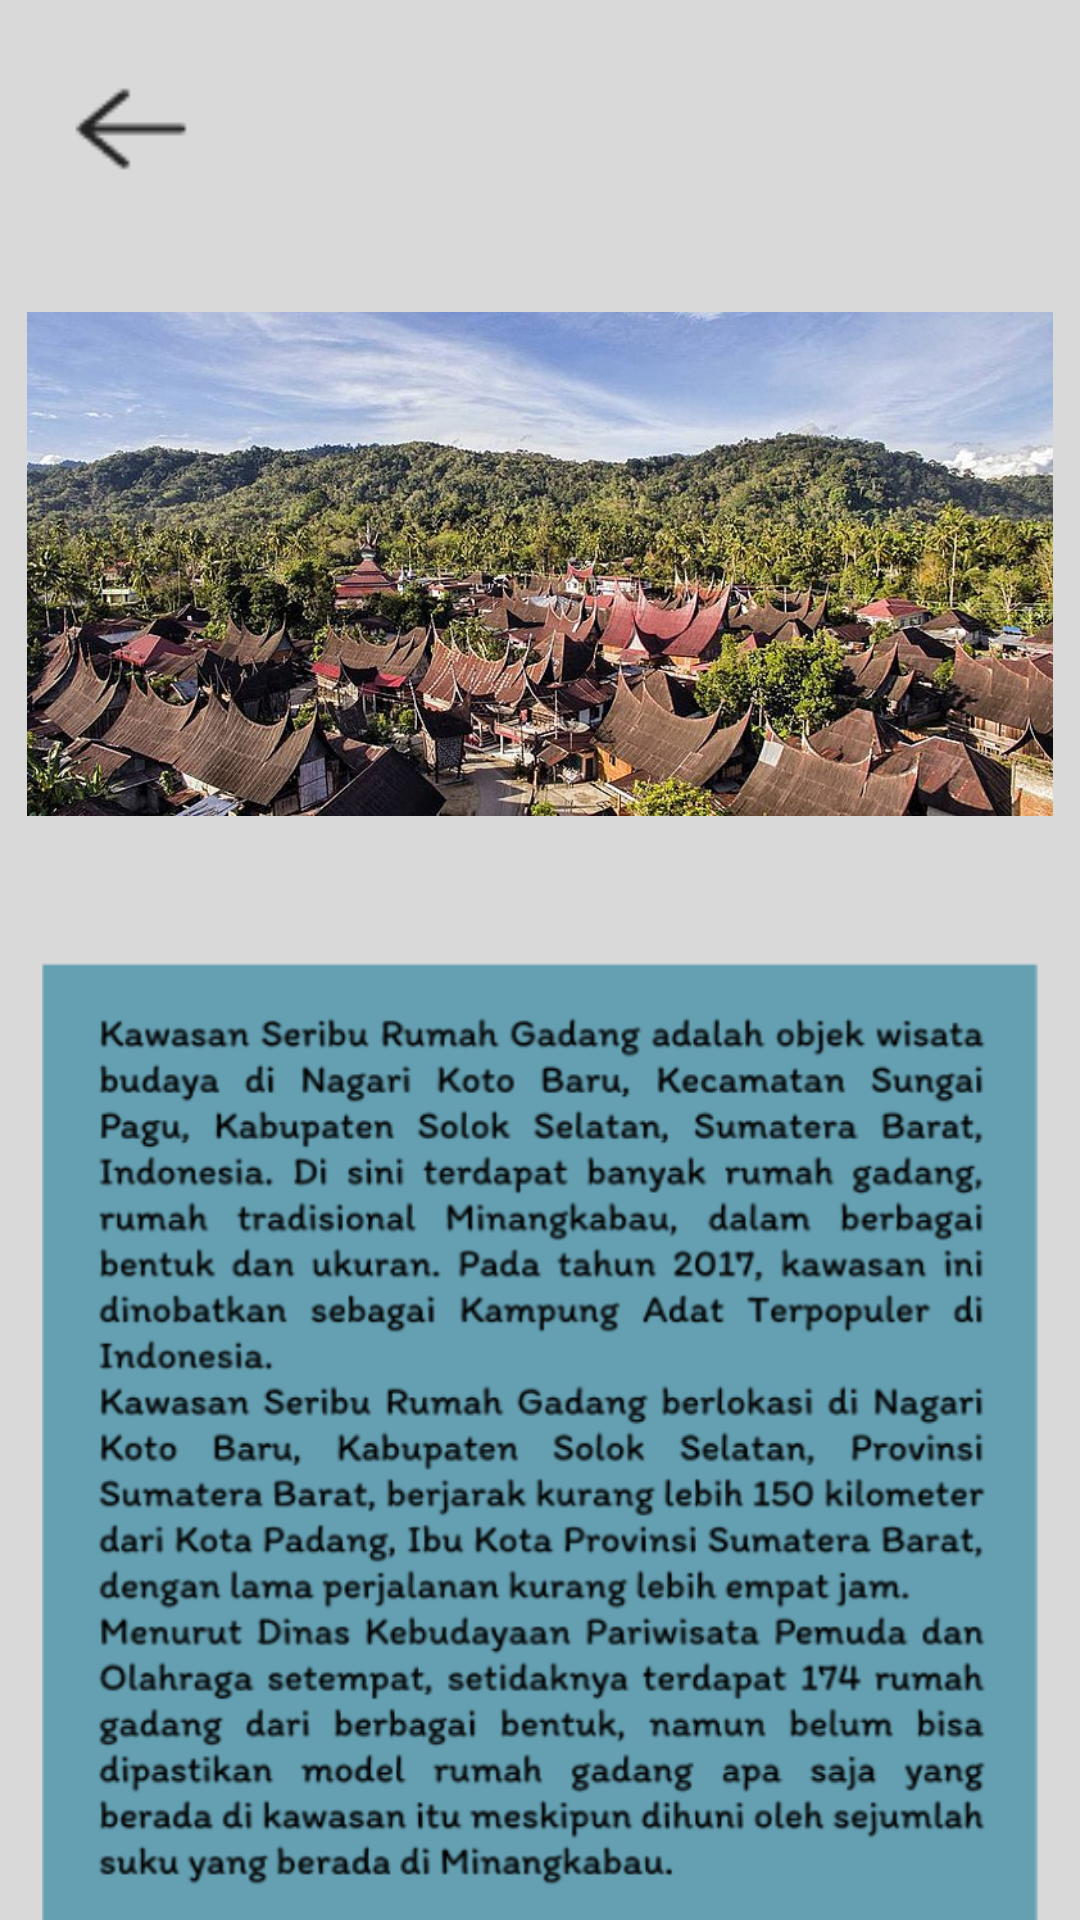

Icon bounding boxes for this 1080×1920 phone screenshot, format bbox(x1, y1, x2, y2):
back: bbox(75, 88, 187, 170)
